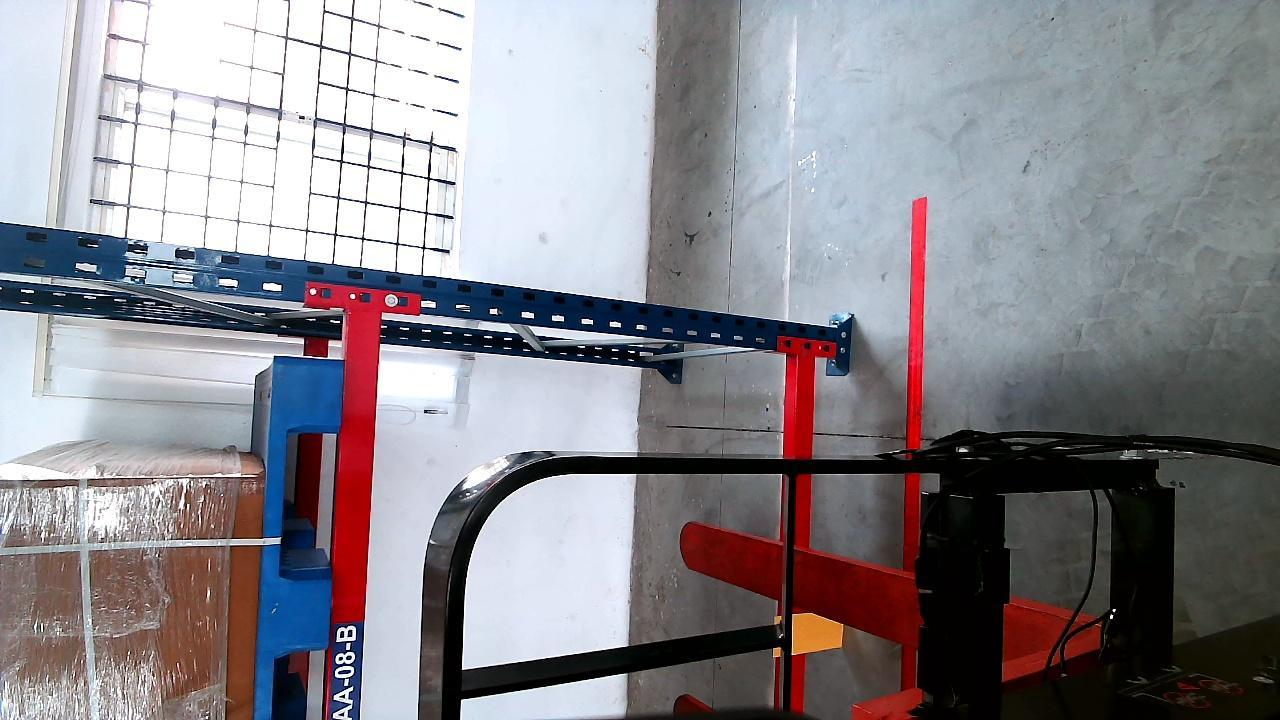red_line: (901, 194, 930, 572)
